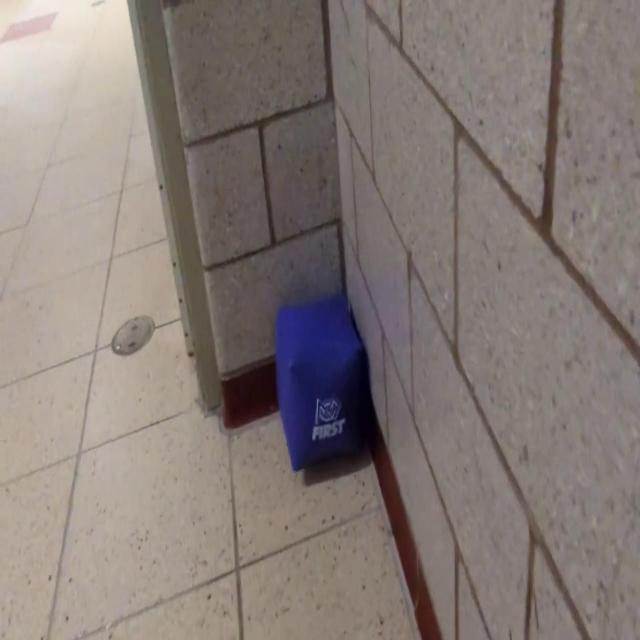frc_cube: (272, 296, 366, 474)
